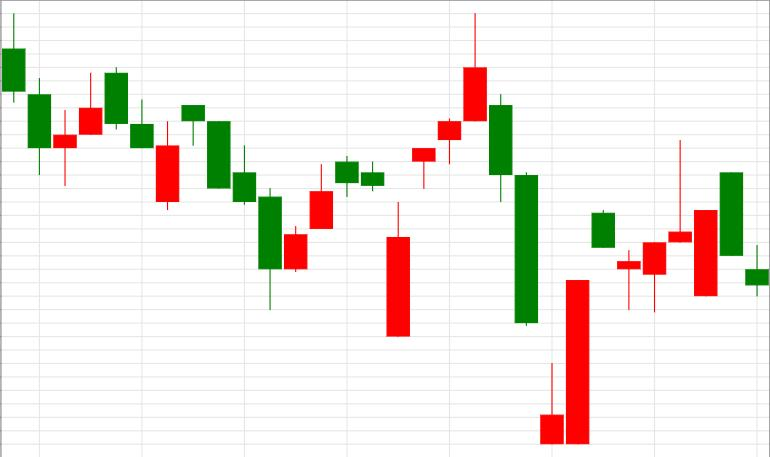inverse_hammer_rise: (463, 14, 564, 445)
